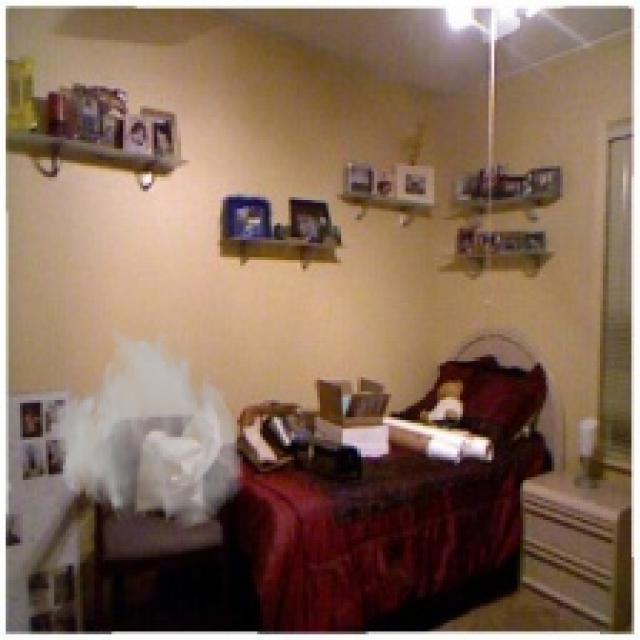smoke: (46, 323, 246, 531)
